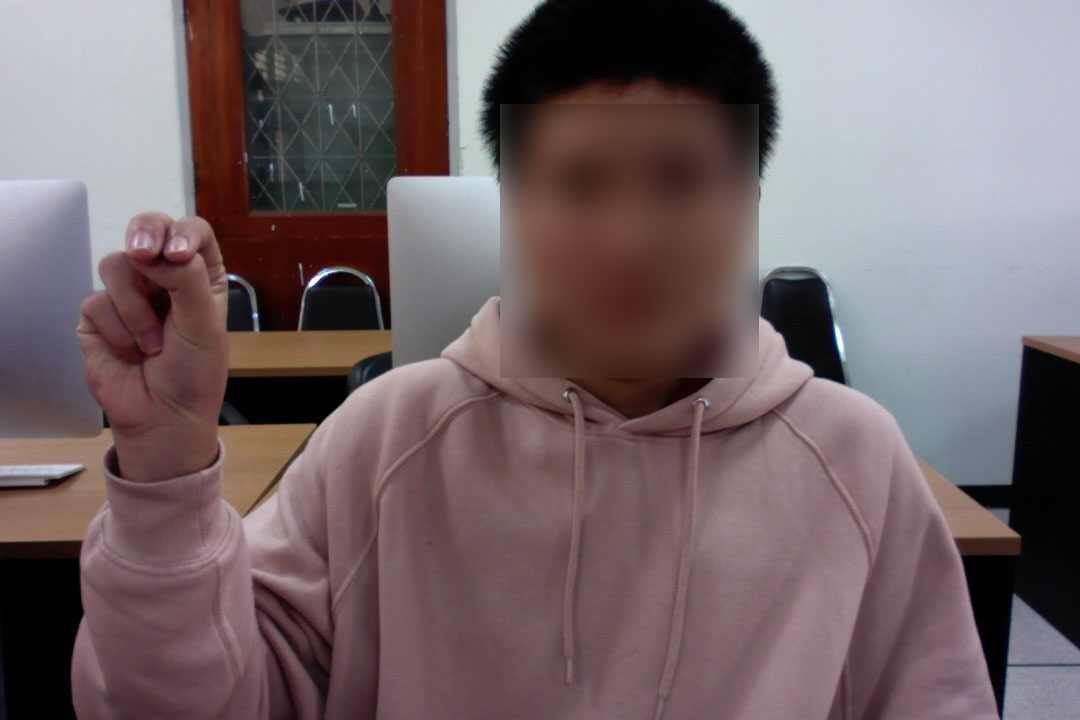nor: (68, 200, 235, 465)
